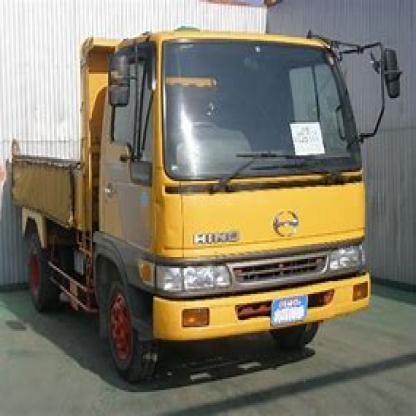dump_truck: (20, 15, 396, 388)
